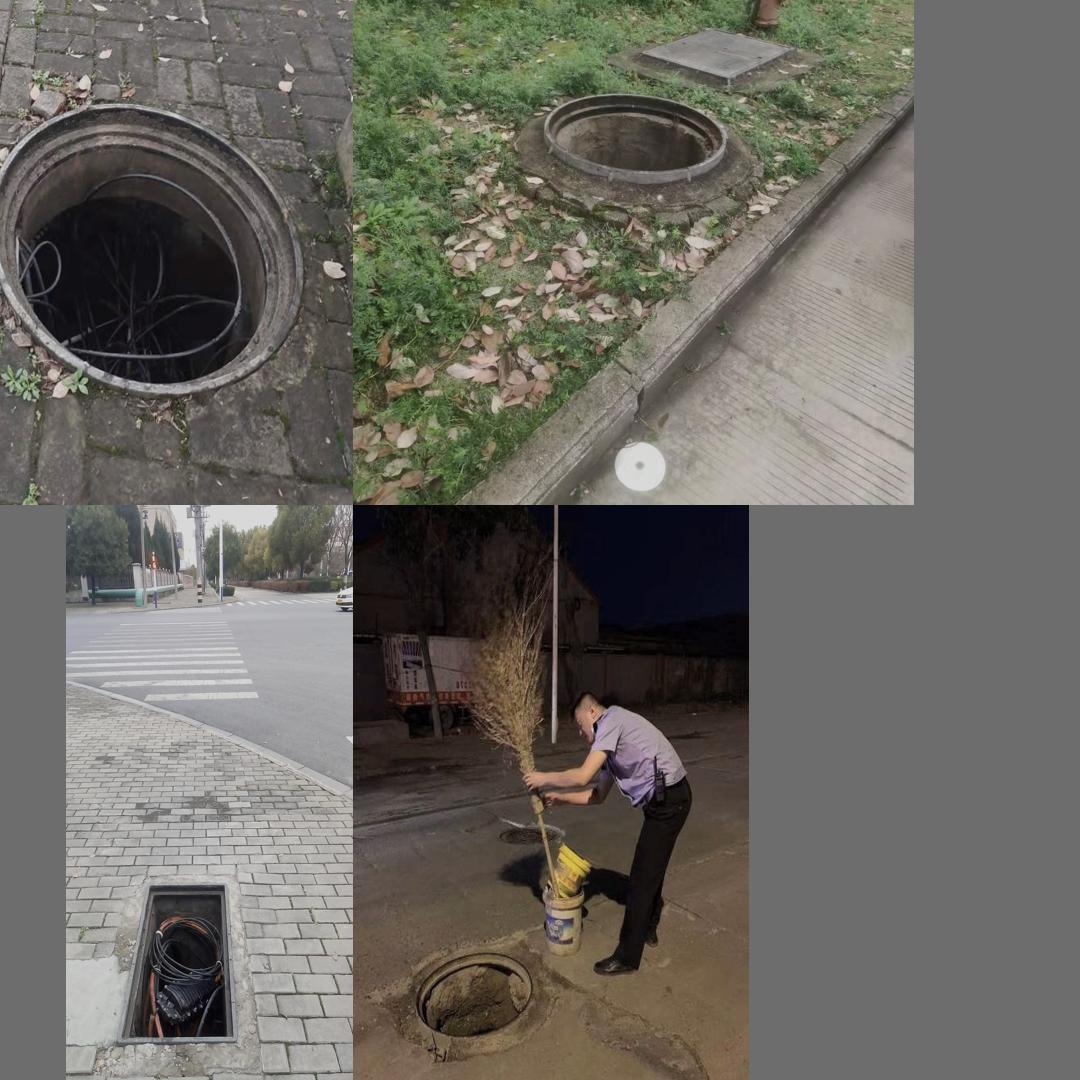good: (633, 25, 796, 88)
lose: (0, 101, 306, 404), (113, 865, 238, 1047), (402, 931, 550, 1064), (543, 91, 730, 184)
